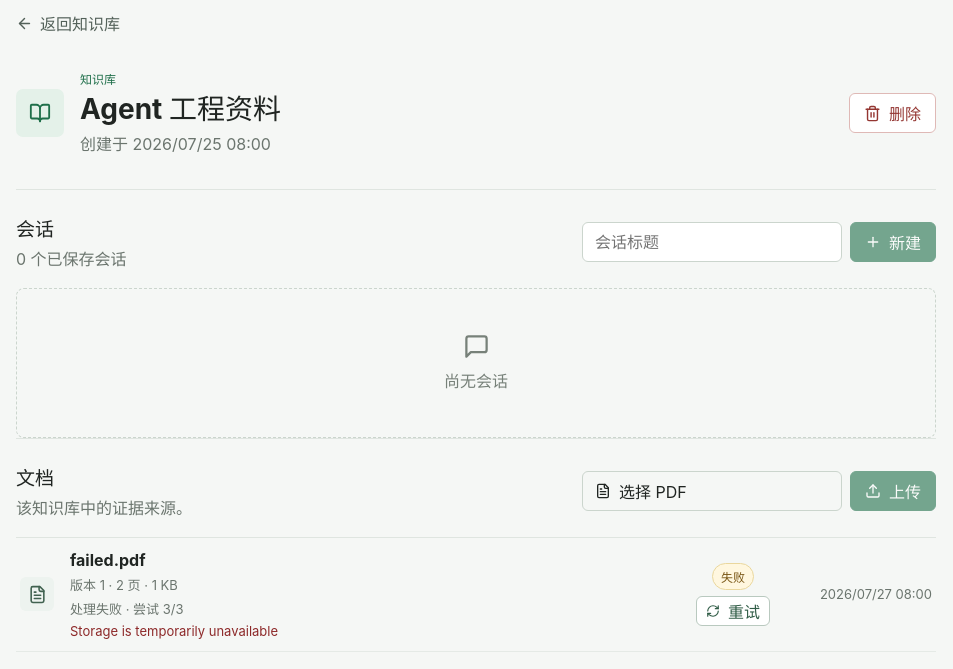
Test: KnowledgeBaseDetailPage › offers manual retry only for recoverable failures
The width and height of the screenshot is (953, 669).
Click the button with test id "retry-ingestion". click: (733, 611)
box: x1=696 y1=596 x2=770 y2=626
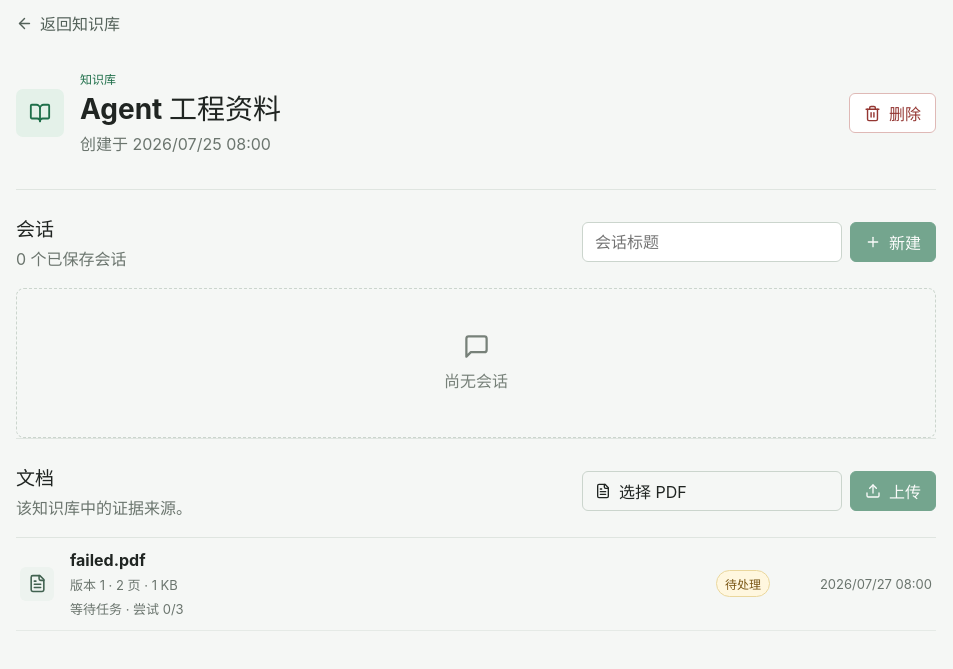
Now the text "待处理" is shown, box x1=716 y1=570 x2=770 y2=597
